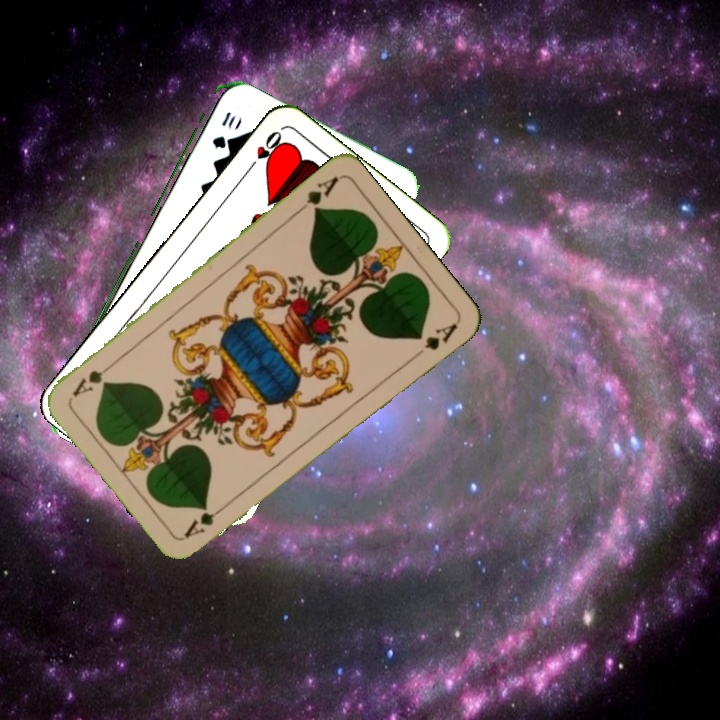G10: (208, 107, 238, 151)
GA: (292, 172, 341, 217), (179, 499, 231, 541)
HO: (242, 127, 285, 176)
